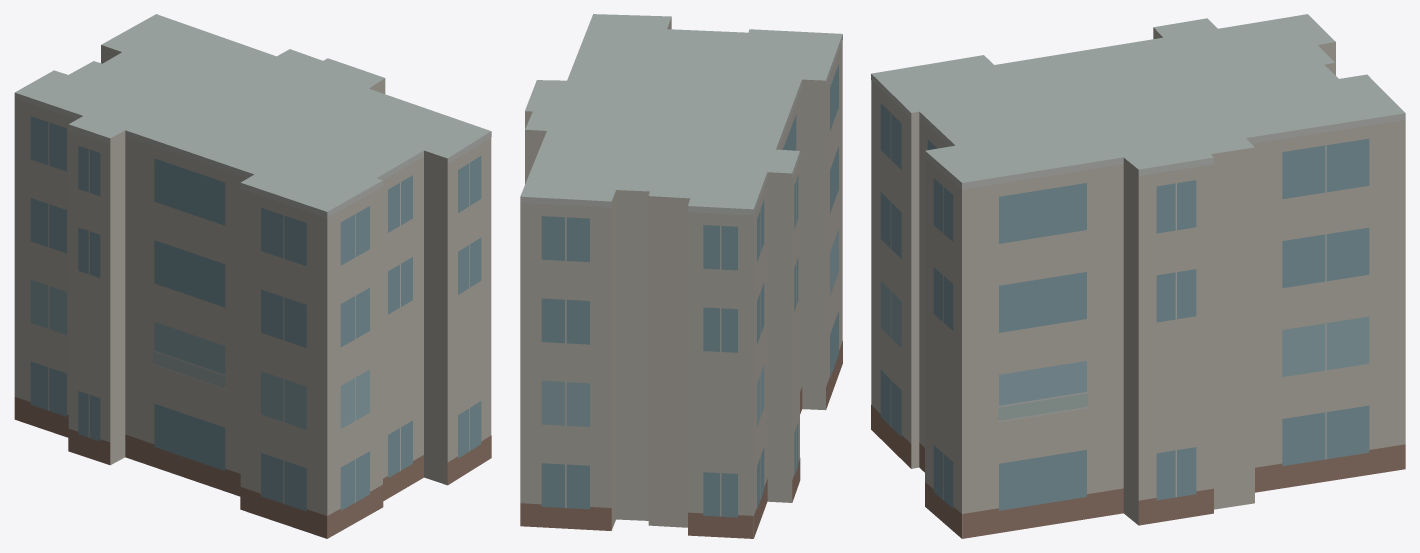
The model's file is survey-upis-32751713.glb.
The picture shows the model from 3 angles, left to right: view 1: azimuth 30°, elevation 25°; view 2: azimuth 150°, elevation 25°; view 3: azimuth 270°, elevation 25°; orthographic projection. The views are drawn at different scales.
Visible parts, largest first — view 1: survey-upis-32751713.tmp; view 2: survey-upis-32751713.tmp; view 3: survey-upis-32751713.tmp.
Boxes of the visible parts, left/top/right/bottom form: survey-upis-32751713.tmp: left=14, top=14, right=491, bottom=538; survey-upis-32751713.tmp: left=520, top=14, right=842, bottom=538; survey-upis-32751713.tmp: left=871, top=14, right=1405, bottom=538.
Size of the model in its own units: 13.4 by 13.15 by 17.91.
